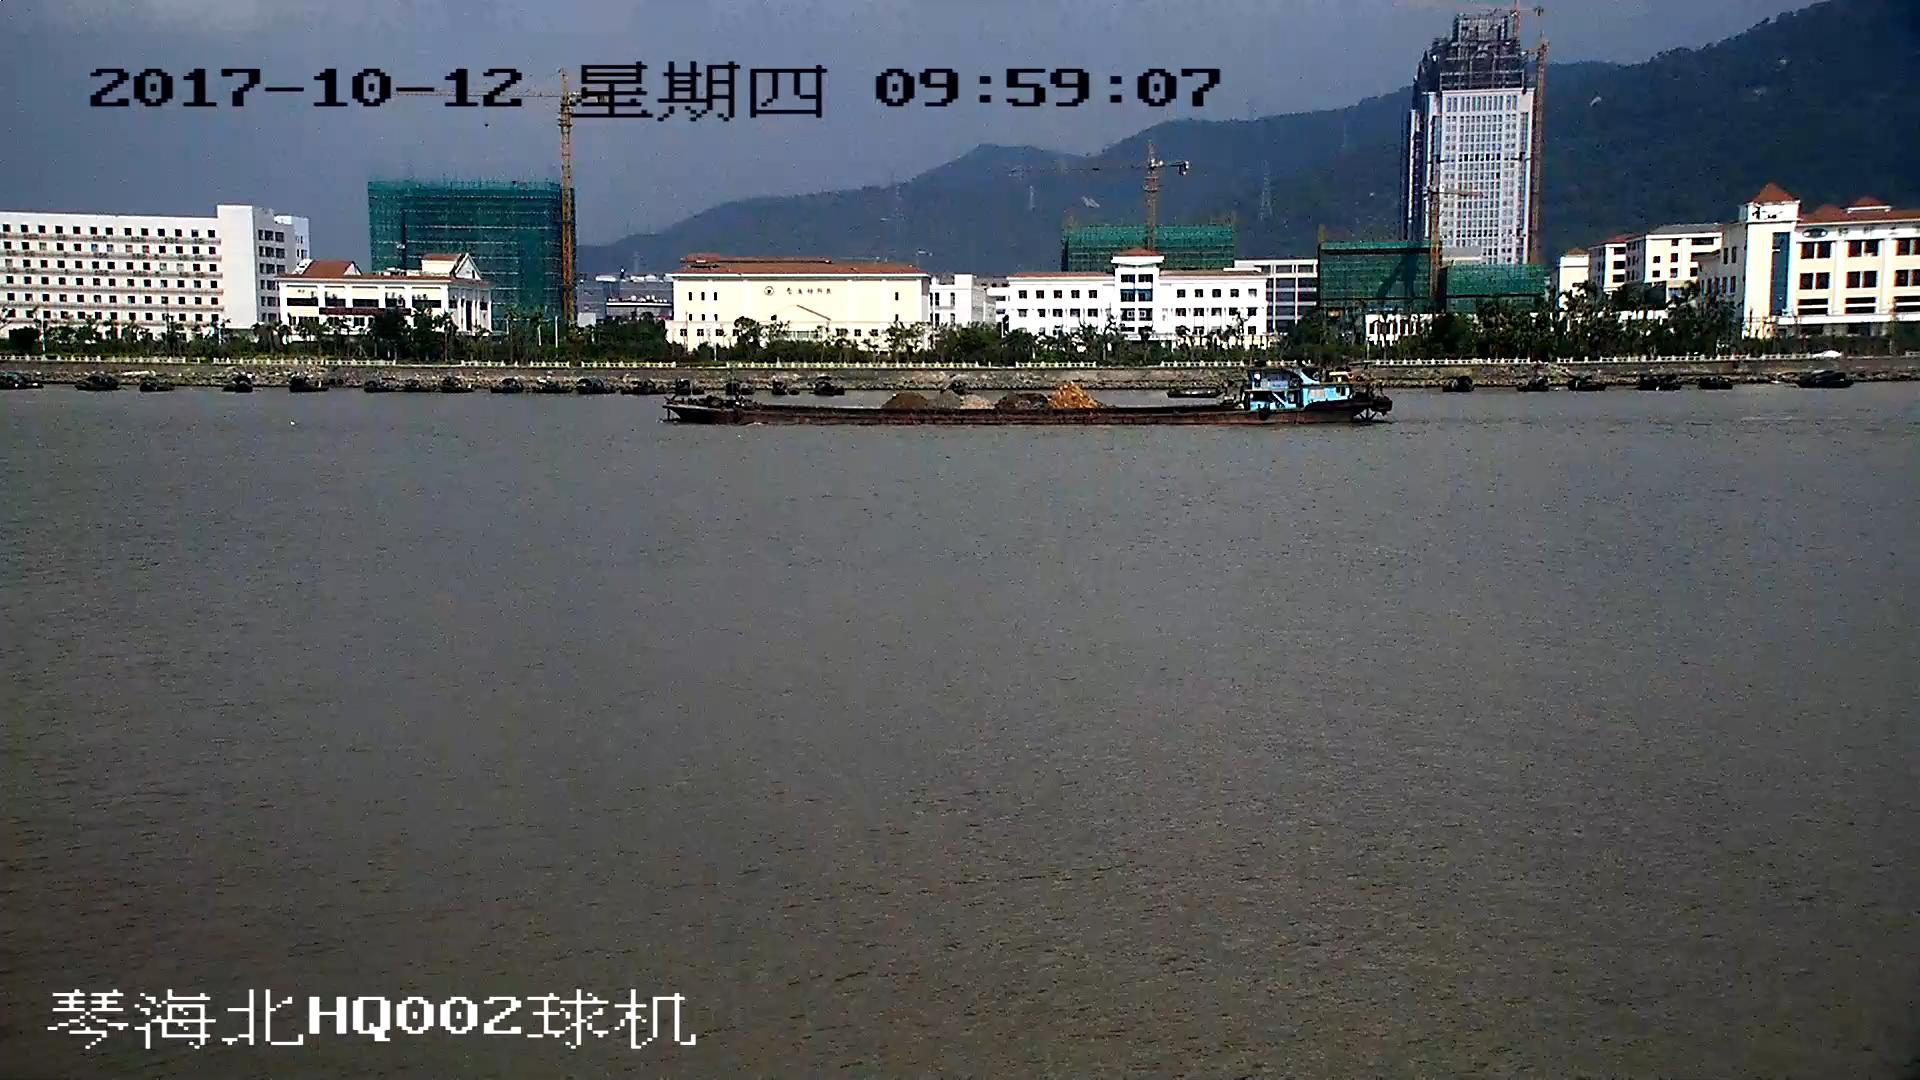ore carrier: (672, 361, 1393, 427)
